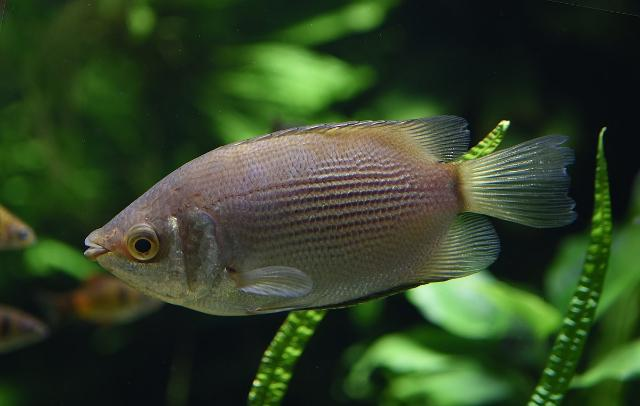Mulut: (64, 219, 128, 279)
Sirip Anal: (352, 207, 512, 312)
Sirip Dada: (215, 255, 331, 305)
Sirip Ekor: (434, 126, 588, 242)
Sirip Perut: (240, 300, 346, 324)
Sirip Punggung: (228, 106, 482, 170)
